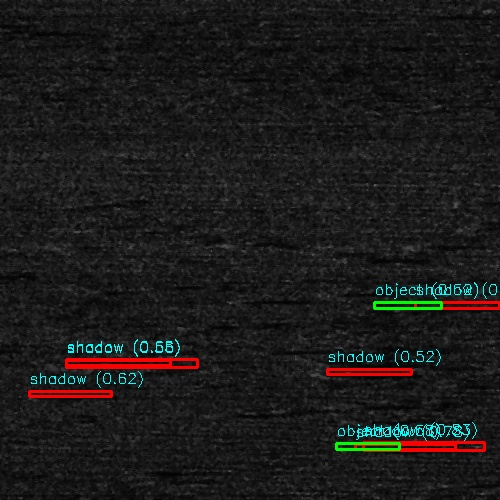rock: (380, 303, 453, 308)
shadow: (417, 303, 500, 308), (358, 447, 418, 450)
